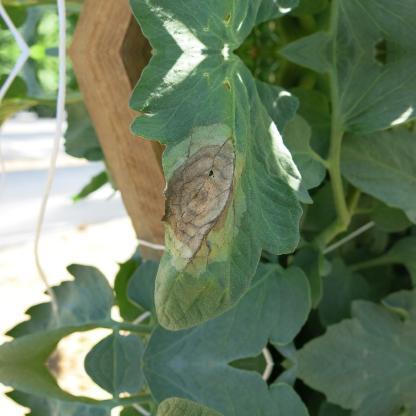Late-Blight: (133, 54, 313, 334)
